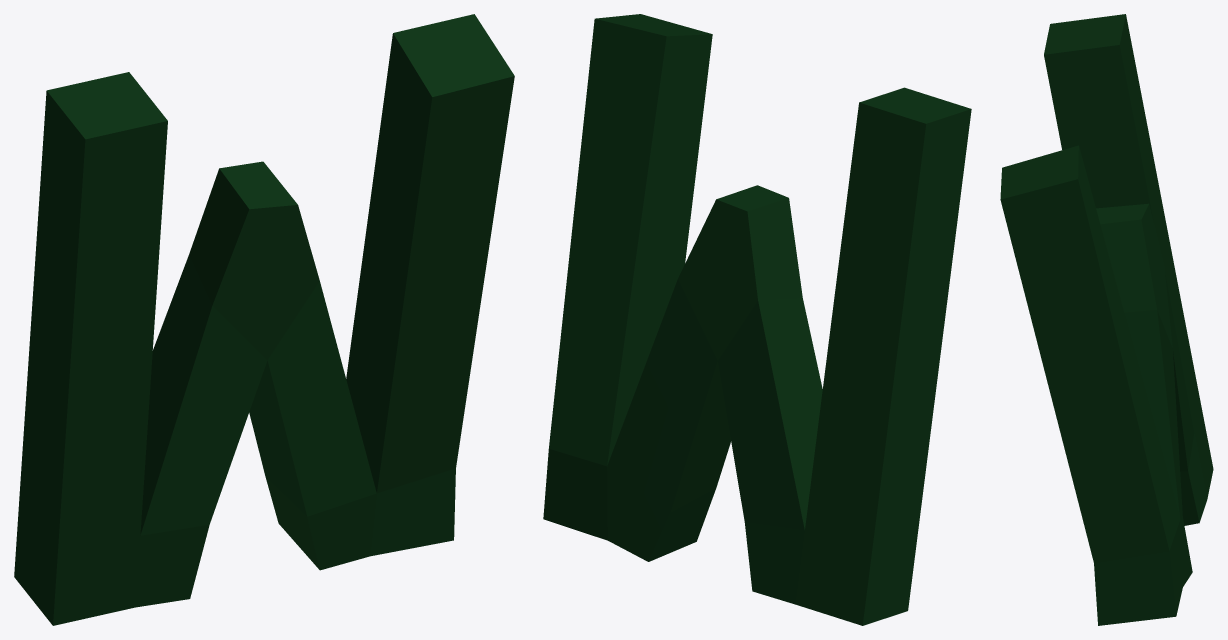
3 views of the same model, side by side, from view 1: azimuth 30°, elevation 25°; view 2: azimuth 150°, elevation 25°; view 3: azimuth 270°, elevation 25° (orthographic). The views are drawn at different scales.
Visible parts, largest first — view 1: mesh_W; view 2: mesh_W; view 3: mesh_W.
Part boxes in pixels (left/top/right/bottom): mesh_W: left=14, top=14, right=514, bottom=625; mesh_W: left=543, top=14, right=971, bottom=625; mesh_W: left=1000, top=14, right=1213, bottom=625.
Bounding box in the file's own units: 59.22 × 76.48 × 31.87.
